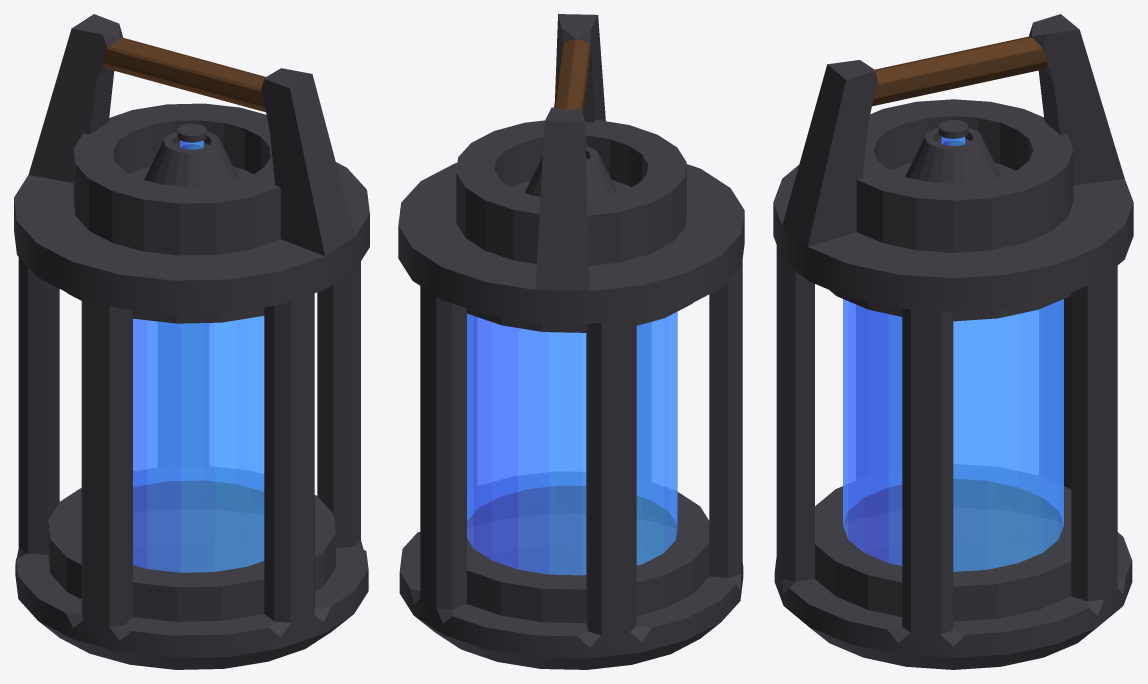
Rendered from Salvage_Cell.fbx.
3 renders of one model, left to right at view 1: azimuth 30°, elevation 25°; view 2: azimuth 150°, elevation 25°; view 3: azimuth 270°, elevation 25°, orthographic. The views are drawn at different scales.
Visible parts, largest first — view 1: pCylinder1; view 2: pCylinder1; view 3: pCylinder1.
Boxes of the visible parts, x1=… form: pCylinder1: x1=14, y1=14, x2=369, y2=669; pCylinder1: x1=398, y1=14, x2=744, y2=669; pCylinder1: x1=773, y1=14, x2=1133, y2=669.
Bounding box in the file's own units: 2 × 3.42 × 2.
